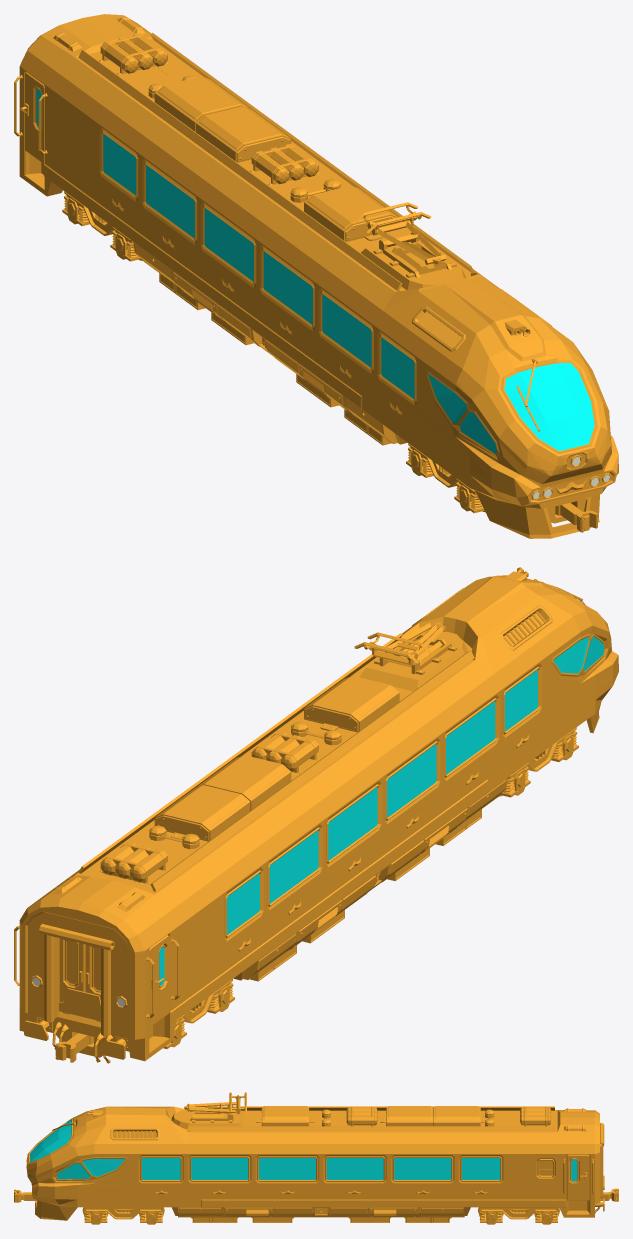
The model's file is SM_Train_Locomotive_Polyexpress_A.fbx.
3 renders of one model, top to bottom at view 1: azimuth 30°, elevation 25°; view 2: azimuth 150°, elevation 25°; view 3: azimuth 270°, elevation 25°, orthographic. The views are drawn at different scales.
Parts seen in each view (by area): view 1: SM_Train_Locomotive_Polyexpress_A_Base, SM_Train_Locomotive_Polyexpress_A_Base_Chassis_F, SM_Train_Locomotive_Polyexpress_A_Base_Chassis_B, SM_Train_Locomotive_Polyexpress_A_Base_Joint_F; view 2: SM_Train_Locomotive_Polyexpress_A_Base, SM_Train_Locomotive_Polyexpress_A_Base_Chassis_F, SM_Train_Locomotive_Polyexpress_A_Base_Chassis_B, SM_Train_Locomotive_Polyexpress_A_Base_Joint_B; view 3: SM_Train_Locomotive_Polyexpress_A_Base, SM_Train_Locomotive_Polyexpress_A_Base_Chassis_F, SM_Train_Locomotive_Polyexpress_A_Base_Chassis_B, SM_Train_Locomotive_Polyexpress_A_Base_Joint_F.
Boxes of the visible parts, x1,y1,x2,y2 form: SM_Train_Locomotive_Polyexpress_A_Base: [14, 14, 618, 538]; SM_Train_Locomotive_Polyexpress_A_Base_Chassis_F: [406, 443, 484, 513]; SM_Train_Locomotive_Polyexpress_A_Base_Chassis_B: [62, 191, 140, 261]; SM_Train_Locomotive_Polyexpress_A_Base_Joint_F: [555, 503, 597, 532]; SM_Train_Locomotive_Polyexpress_A_Base: [14, 567, 618, 1063]; SM_Train_Locomotive_Polyexpress_A_Base_Chassis_F: [500, 727, 578, 797]; SM_Train_Locomotive_Polyexpress_A_Base_Chassis_B: [163, 979, 234, 1048]; SM_Train_Locomotive_Polyexpress_A_Base_Joint_B: [55, 1033, 93, 1062]; SM_Train_Locomotive_Polyexpress_A_Base: [26, 1092, 604, 1222]; SM_Train_Locomotive_Polyexpress_A_Base_Chassis_F: [84, 1207, 163, 1224]; SM_Train_Locomotive_Polyexpress_A_Base_Chassis_B: [479, 1207, 558, 1224]; SM_Train_Locomotive_Polyexpress_A_Base_Joint_F: [14, 1189, 37, 1202].
Size of the model in its own units: 3.37 by 4.61 by 21.81.
